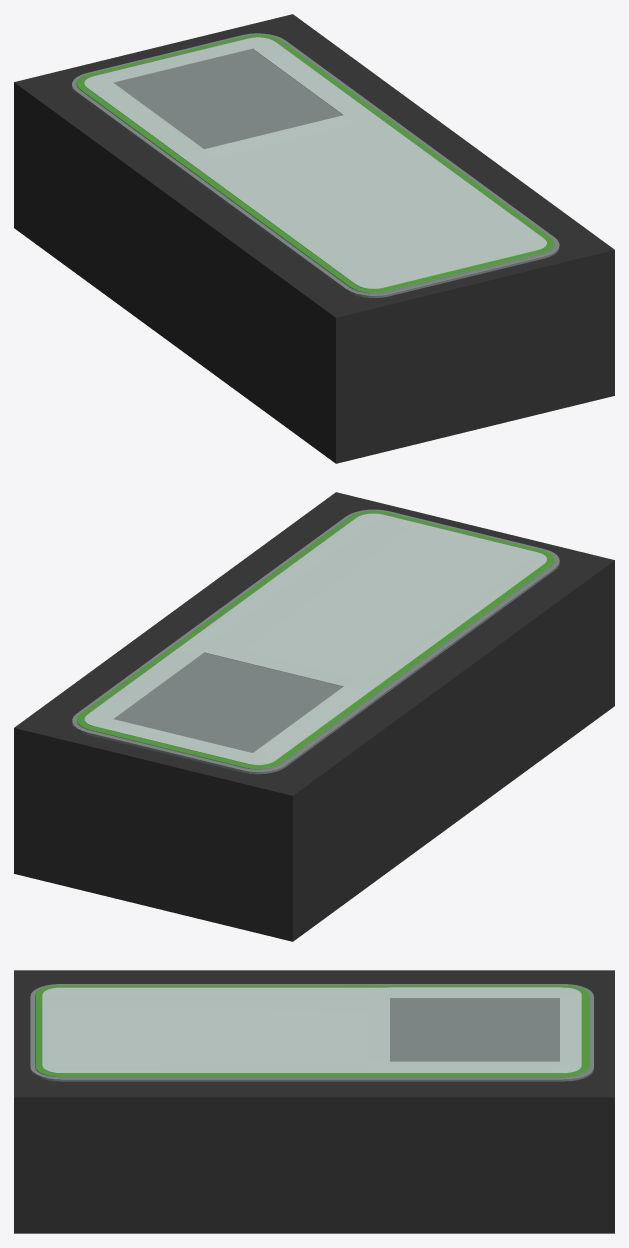
File: SuperficieRectangular.fbx
3 views of the same model, one above another, from view 1: azimuth 30°, elevation 25°; view 2: azimuth 150°, elevation 25°; view 3: azimuth 270°, elevation 25° (orthographic). The views are drawn at different scales.
Parts seen in each view (by area): view 1: Cube.001, Superficie.016; view 2: Cube.001, Superficie.016; view 3: Cube.001, Superficie.016.
Boxes of the visible parts, <box> form: Cube.001: <box>14,14,614,463</box>; Superficie.016: <box>72,33,559,297</box>; Cube.001: <box>14,492,614,941</box>; Superficie.016: <box>72,509,559,774</box>; Cube.001: <box>14,970,614,1233</box>; Superficie.016: <box>30,984,593,1081</box>.
Size of the model in its own units: 2000 by 1029 by 4000.
